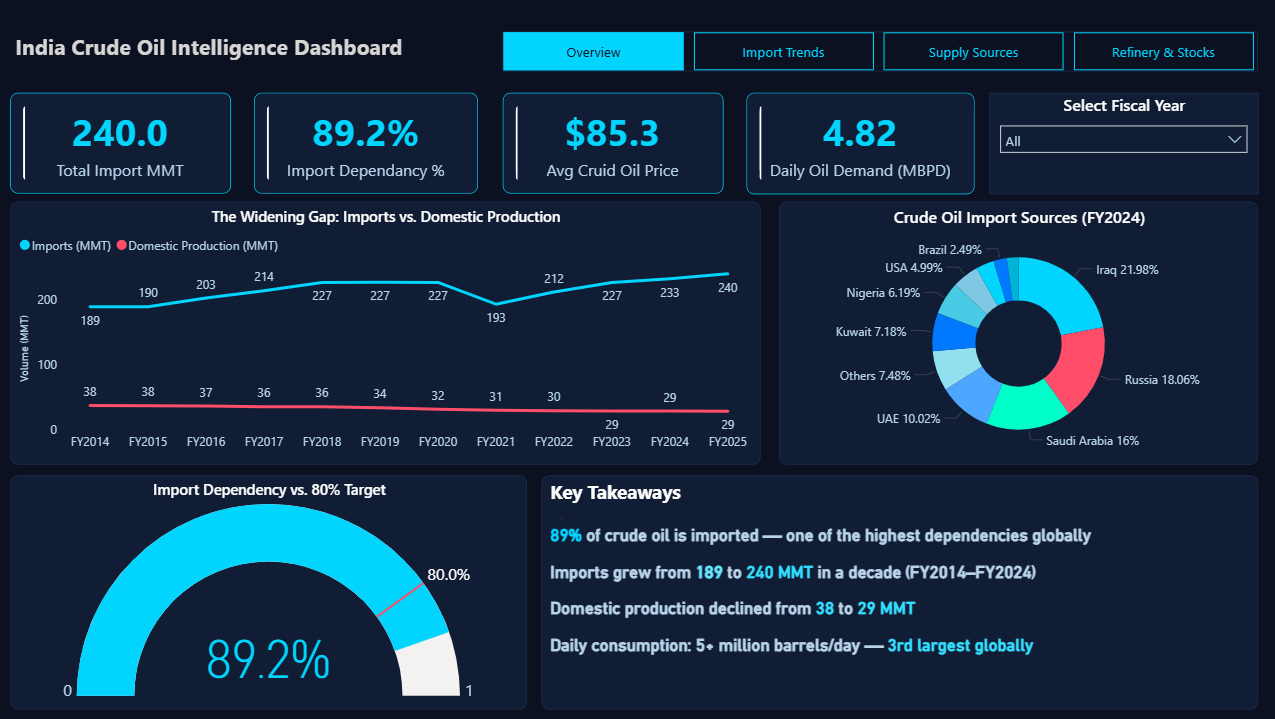

The page's visual inventory and layout, read from the dashboard file:
{"tool":"powerbi","page":{"name":"Overview","canvas":[1280,720],"ordinal":0},"visuals":[{"type":"cardVisual","fields":{"Data":["CrudeYearlyExtended.Total Import MMT"]},"box":[11.5,93.6,220.5,101],"z":0},{"type":"cardVisual","fields":{"Data":["CrudeYearlyExtended.Import Dependancy %"]},"box":[255.4,93.6,224.4,101],"z":1000},{"type":"cardVisual","fields":{"Data":["CrudeYearlyExtended.Avg Cruid Oil Price"]},"box":[503.2,93.6,220.5,101],"z":2000},{"type":"cardVisual","fields":{"Data":["CrudeYearlyExtended.Daily Usage MBPD"]},"box":[747.4,93.6,228.2,101.3],"z":3000},{"type":"lineChart","title":"The Widening Gap: Imports vs. Domestic Production","fields":{"Category":["CrudeYearlyExtended.Fiscal_Year"],"Y":["Sum(CrudeYearlyExtended.Total_Imports_MMT)","Sum(CrudeYearlyExtended.Domestic_Prod_MMT)"]},"box":[11.5,202.6,750,262.8],"z":4000},{"type":"donutChart","title":"Crude Oil Import Sources (FY2024)","fields":{"Category":["CrudeCountry.Country"],"Y":["Sum(CrudeCountry.Import_Volume_MMT)"]},"box":[779.5,202.6,479.5,262.8],"z":5000},{"type":"gauge","title":"Import Dependency vs. 80% Target","fields":{"Y":["CrudeYearlyExtended.Import Dependancy %"],"TargetValue":["CrudeYearlyExtended.Gauge Target"],"MinValue":["CrudeYearlyExtended.Gauge Min"],"MaxValue":["CrudeYearlyExtended.Gauge Max"]},"box":[11.5,475.6,516.7,234.6],"z":6000},{"type":"slicer","title":"Select Fiscal Year","fields":{"Values":["FY_Lookup.FiscalYear"]},"box":[989.7,93.6,269.2,101.3],"z":7000},{"type":"textbox","title":"Key Takeaways","box":[542.3,475.6,716.7,234.6],"z":8000},{"type":"textbox","box":[11.5,10.3,1260.3,71.8],"z":8001},{"type":"pageNavigator","box":[503.8,32.1,755.1,40],"z":8002}]}

Visuals, with their boxes in screenshot pixels (x1, y1, x2, y2), scaled from the page's 1280x720 canvas onto the 1275x719 screenshot:
cardVisual - CrudeYearlyExtended.Total Import MMT: [11,93,231,194]
cardVisual - CrudeYearlyExtended.Import Dependancy %: [254,93,478,194]
cardVisual - CrudeYearlyExtended.Avg Cruid Oil Price: [501,93,721,194]
cardVisual - CrudeYearlyExtended.Daily Usage MBPD: [744,93,972,195]
"The Widening Gap: Imports vs. Domestic Production" lineChart: [11,202,759,465]
"Crude Oil Import Sources (FY2024)" donutChart: [776,202,1254,465]
"Import Dependency vs. 80% Target" gauge: [11,475,526,709]
"Select Fiscal Year" slicer: [986,93,1254,195]
"Key Takeaways" textbox: [540,475,1254,709]
textbox: [11,10,1267,82]
pageNavigator: [502,32,1254,72]
